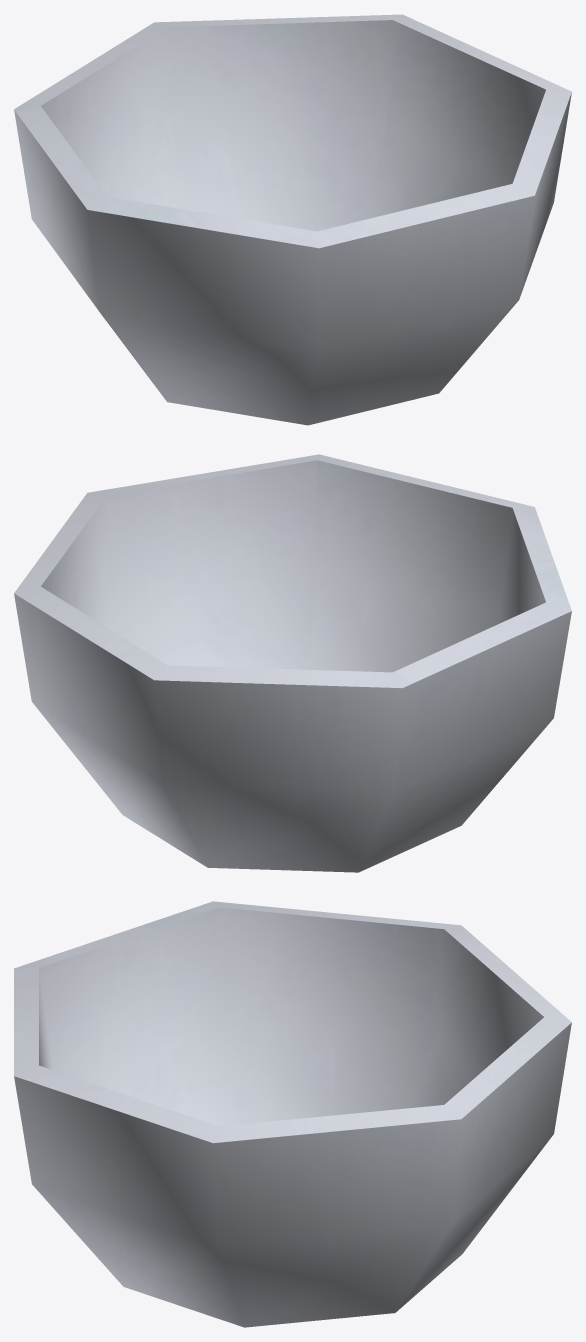
Rendered from Bowl-col.glb.
3 views of the same model, one above another, from view 1: azimuth 30°, elevation 25°; view 2: azimuth 150°, elevation 25°; view 3: azimuth 270°, elevation 25° (orthographic). The views are drawn at different scales.
Parts seen in each view (by area): view 1: Bowl-col; view 2: Bowl-col; view 3: Bowl-col.
Boxes of the visible parts, x1,y1,x2,y2 form: Bowl-col: (14,14,571,425); Bowl-col: (14,454,571,872); Bowl-col: (14,901,571,1327).
Size of the model in its own units: 0.2497 by 0.1143 by 0.2435.
1 material, 1 textured.
